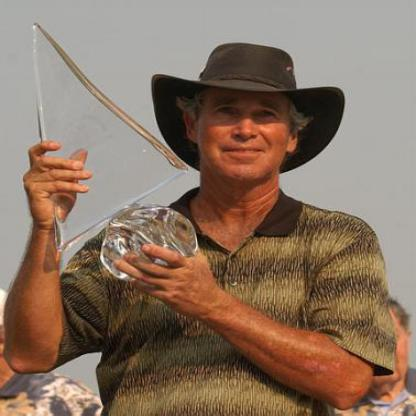face: (199, 54, 296, 183)
